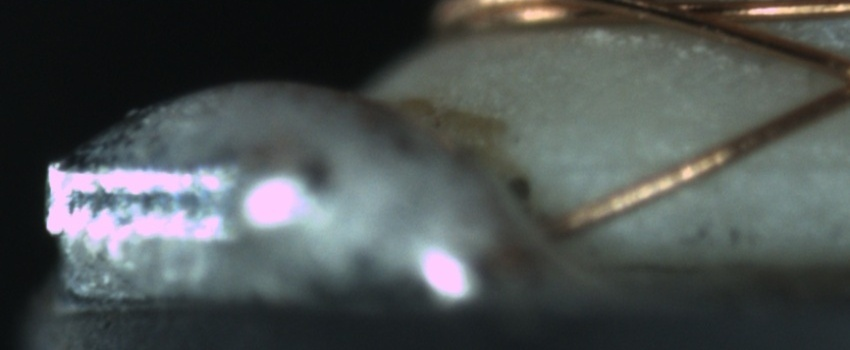DL: (564, 136, 841, 199)
